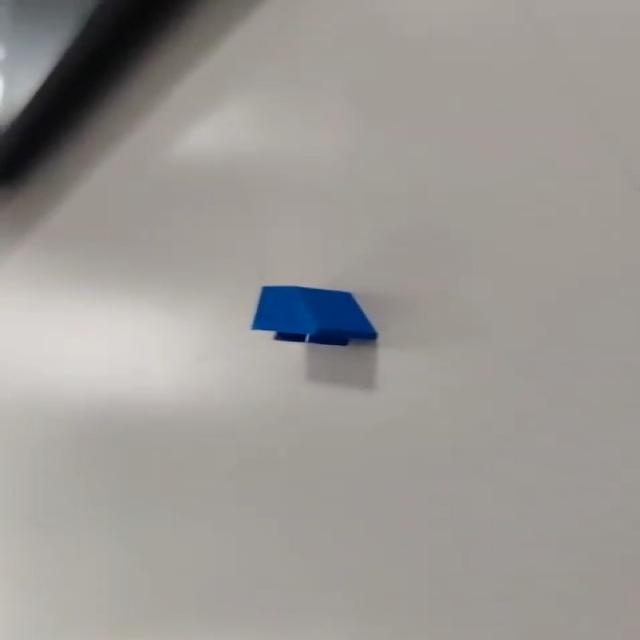X1x2x1: (239, 282, 388, 348)
